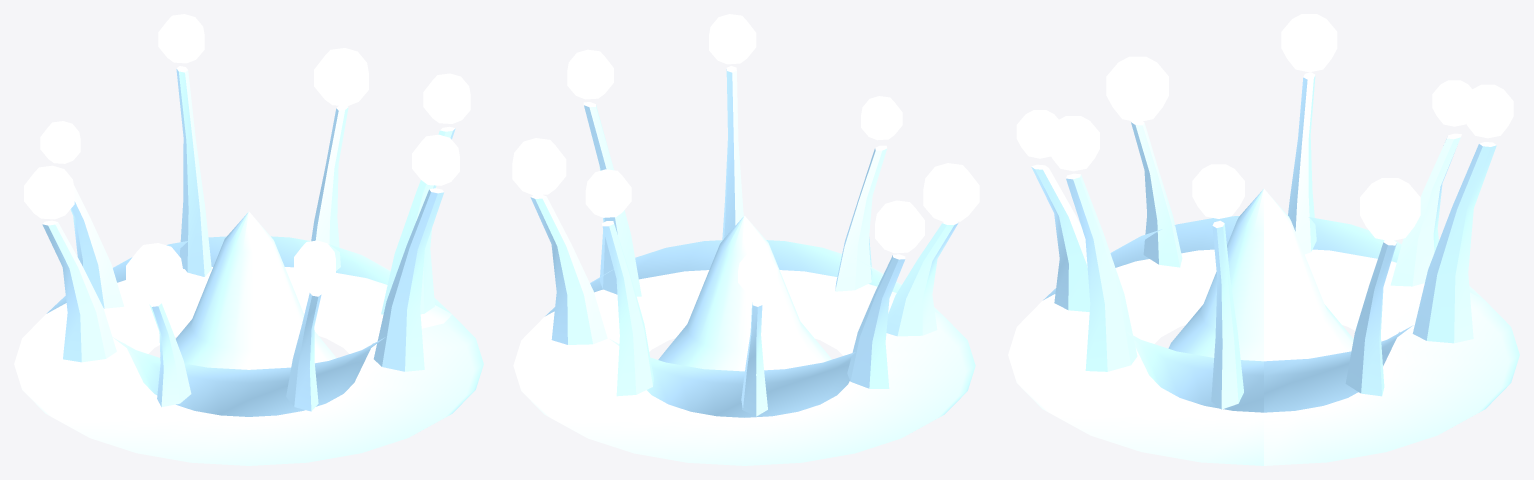
The model's file is vfx-mesh-library-rain-splash-ring-370934d8.glb.
The picture shows the model from 3 angles, left to right: view 1: azimuth 30°, elevation 25°; view 2: azimuth 150°, elevation 25°; view 3: azimuth 270°, elevation 25°; orthographic projection. The views are drawn at different scales.
Parts seen in each view (by area): view 1: rain-splash-ring; view 2: rain-splash-ring; view 3: rain-splash-ring.
Part boxes in pixels (<box>): rain-splash-ring: <box>14,14,483,465</box>; rain-splash-ring: <box>512,14,979,465</box>; rain-splash-ring: <box>1008,14,1519,465</box>.
Size of the model in its own units: 0.56 by 0.3603 by 0.56.
